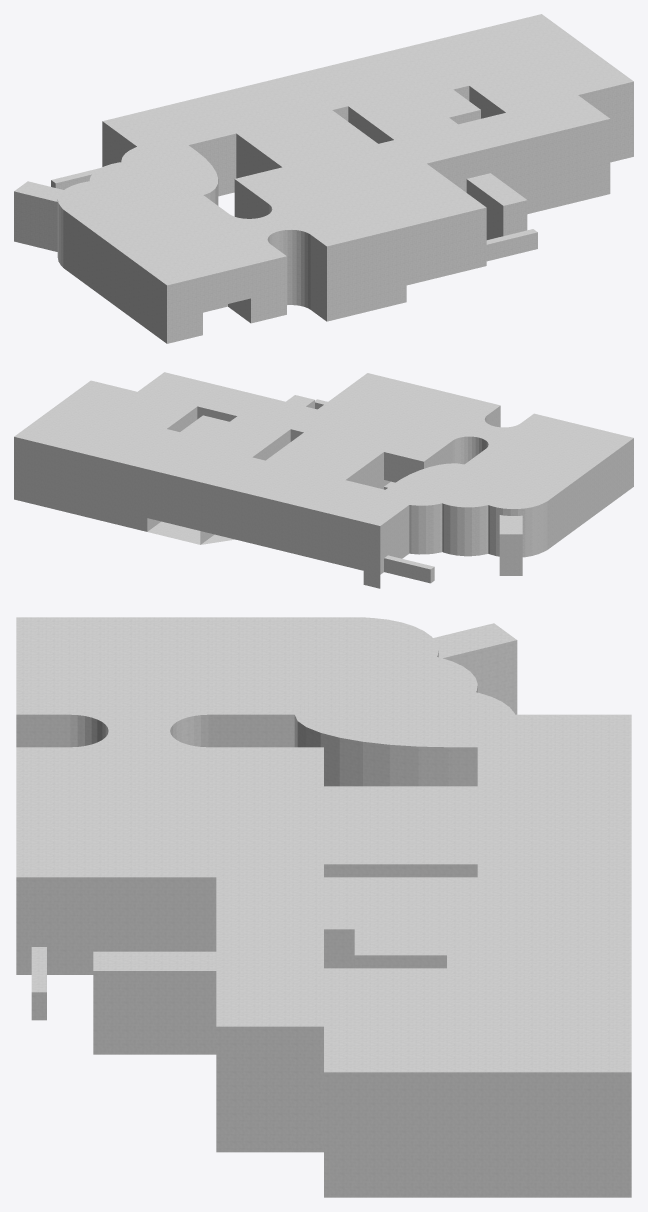
Rendered from Level2.fbx.
The picture shows the model from 3 angles, top to bottom: view 1: azimuth 30°, elevation 25°; view 2: azimuth 150°, elevation 25°; view 3: azimuth 270°, elevation 25°; orthographic projection. The views are drawn at different scales.
Parts seen in each view (by area): view 1: Plane; view 2: Plane; view 3: Plane.
Part boxes in pixels (x1=…): Plane: x1=14, y1=14, x2=633, y2=343; Plane: x1=14, y1=372, x2=633, y2=588; Plane: x1=16, y1=617, x2=631, y2=1197.
Size of the model in its own units: 7123 by 900 by 4000.
